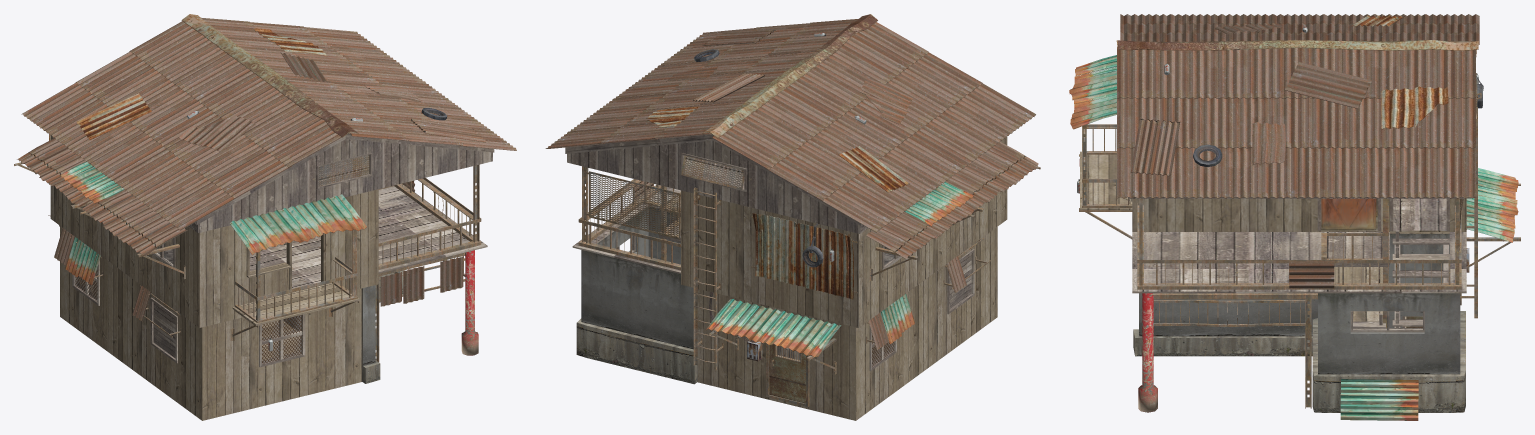
3 views of the same model, side by side, from view 1: azimuth 30°, elevation 25°; view 2: azimuth 150°, elevation 25°; view 3: azimuth 270°, elevation 25° (orthographic). The views are drawn at different scales.
Visible parts, largest first — view 1: Zinc, WoodWall, Woods, Irons, Others, TilesGlass; view 2: Zinc, WoodWall, Others, Woods, Irons, TilesGlass; view 3: Zinc, Others, Woods, Irons, WoodWall.
Boxes of the visible parts, <box> form: Zinc: <box>17,17,516,321</box>; WoodWall: <box>50,135,378,420</box>; Woods: <box>21,133,494,367</box>; Irons: <box>14,162,481,362</box>; Others: <box>181,14,478,383</box>; TilesGlass: <box>75,154,369,363</box>; Zinc: <box>545,19,1038,357</box>; WoodWall: <box>681,136,1007,420</box>; Others: <box>576,14,877,384</box>; Woods: <box>565,134,974,371</box>; Irons: <box>578,166,1040,406</box>; TilesGlass: <box>585,155,897,366</box>; Zinc: <box>1069,14,1518,420</box>; Others: <box>1077,26,1483,412</box>; Woods: <box>1080,151,1471,332</box>; Irons: <box>1079,73,1520,408</box>; WoodWall: <box>1132,198,1466,327</box>.
Bounding box in the file's own units: 11.63 × 8.2 × 11.32.
6 materials, 6 textured.
